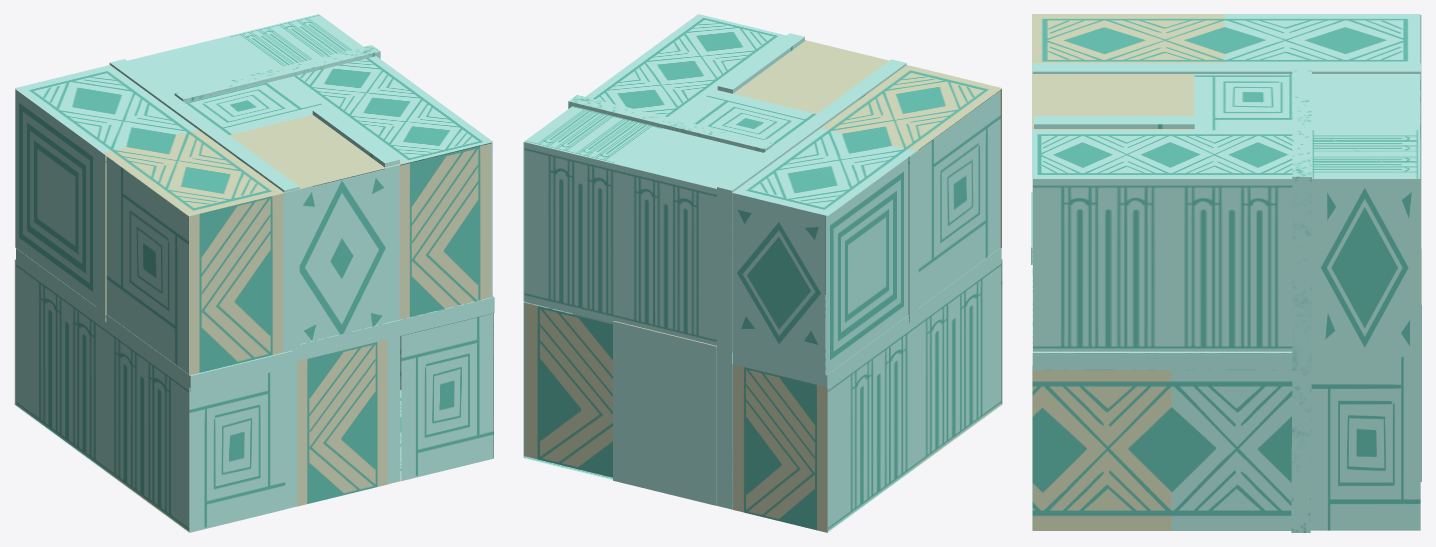
Rendered from level05——— Revise.fbx.
3 views of the same model, side by side, from view 1: azimuth 30°, elevation 25°; view 2: azimuth 150°, elevation 25°; view 3: azimuth 270°, elevation 25° (orthographic). The views are drawn at different scales.
Parts seen in each view (by area): view 1: Plane.080, Plane.090, Plane.070, Plane.072, Plane.073, Plane.075, Plane.071, Plane.074, Plane.088, Plane.089, Cube.009, Cube.012 (+5 smaller); view 2: Plane.080, Plane.091, Plane.090, Cube.015, Plane.083, Plane.084, Plane.082, Plane.089, Plane.088, Cube.009, Cube.012, Cube.014 (+2 smaller); view 3: Plane.080, Plane.085, Plane.050, Plane.087, Plane.086, Cube.014, Cube.011, Cube.009, Cube.007, Cube.015.
Part boxes in pixels (<box>): Plane.080: <box>14,14,492,216</box>; Plane.090: <box>15,260,189,531</box>; Plane.070: <box>189,193,284,375</box>; Plane.072: <box>399,143,491,319</box>; Plane.073: <box>189,369,285,532</box>; Plane.075: <box>401,313,493,480</box>; Plane.071: <box>299,169,385,343</box>; Plane.074: <box>297,339,388,506</box>; Plane.088: <box>106,157,188,374</box>; Plane.089: <box>15,89,96,306</box>; Cube.009: <box>109,59,299,508</box>; Cube.012: <box>16,248,292,391</box>; Plane.080: <box>524,14,1002,215</box>; Plane.091: <box>524,142,716,345</box>; Plane.090: <box>827,260,1001,531</box>; Cube.015: <box>613,321,716,505</box>; Plane.083: <box>732,193,825,375</box>; Plane.084: <box>732,364,827,532</box>; Plane.082: <box>523,302,612,477</box>; Plane.089: <box>826,157,908,375</box>; Plane.088: <box>918,90,1000,307</box>; Cube.009: <box>717,59,906,509</box>; Cube.012: <box>733,248,1001,386</box>; Cube.014: <box>568,95,773,324</box>; Plane.080: <box>1032,14,1420,178</box>; Plane.085: <box>1033,179,1312,351</box>; Plane.050: <box>1032,370,1292,530</box>; Plane.087: <box>1312,179,1421,356</box>; Plane.086: <box>1310,357,1420,530</box>; Cube.014: <box>1291,70,1311,532</box>; Cube.011: <box>1032,247,1292,370</box>; Cube.009: <box>1032,63,1420,246</box>; Cube.007: <box>1034,116,1194,128</box>; Cube.015: <box>1312,248,1421,481</box>.
Size of the model in its own units: 609 by 606 by 601.
